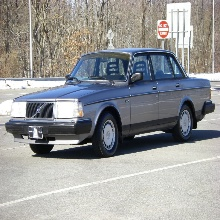no damage: (4, 47, 215, 157)
